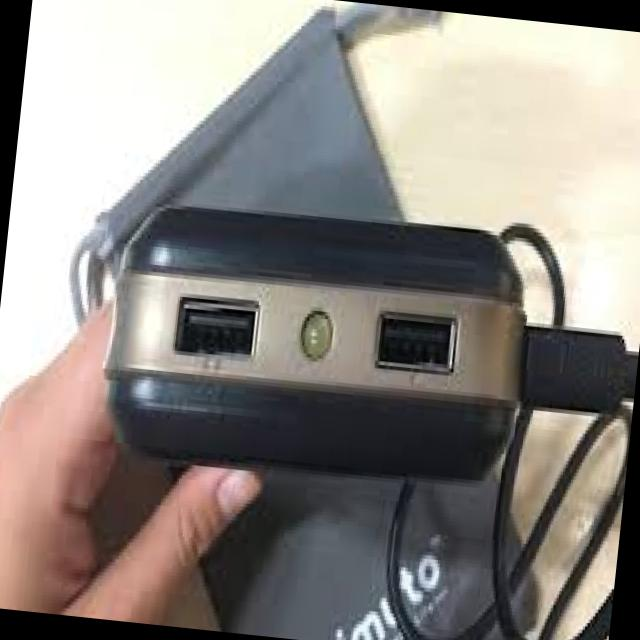power_bank: (95, 181, 548, 502)
